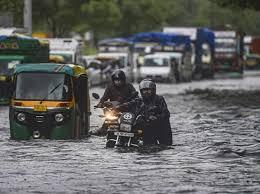helmet: (139, 78, 156, 101), (111, 69, 126, 90)
